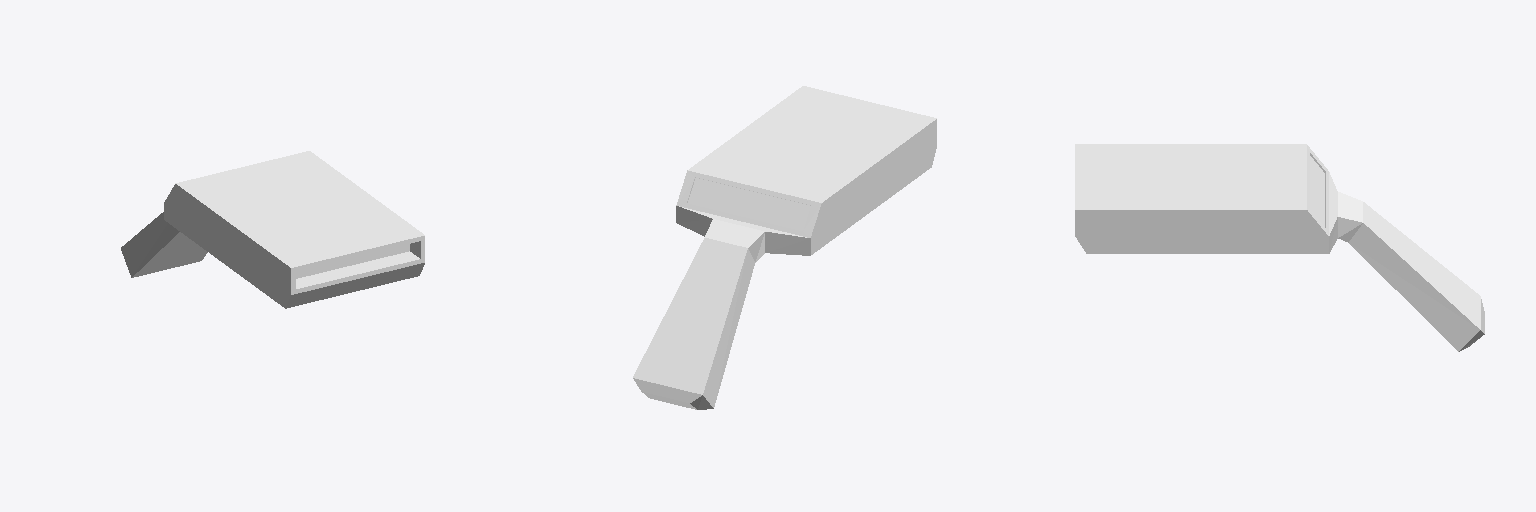
The model's file is PortalGun.obj.
3 renders of one model, left to right at view 1: azimuth 30°, elevation 25°; view 2: azimuth 150°, elevation 25°; view 3: azimuth 270°, elevation 25°, orthographic.
Visible parts, largest first — view 1: PortalGun; view 2: PortalGun; view 3: PortalGun.
Part boxes in pixels (bbox=[...]): PortalGun: bbox=[121, 151, 424, 308]; PortalGun: bbox=[633, 86, 936, 409]; PortalGun: bbox=[1075, 144, 1484, 351].
Size of the model in its own units: 0.07 by 0.0788 by 0.1846.